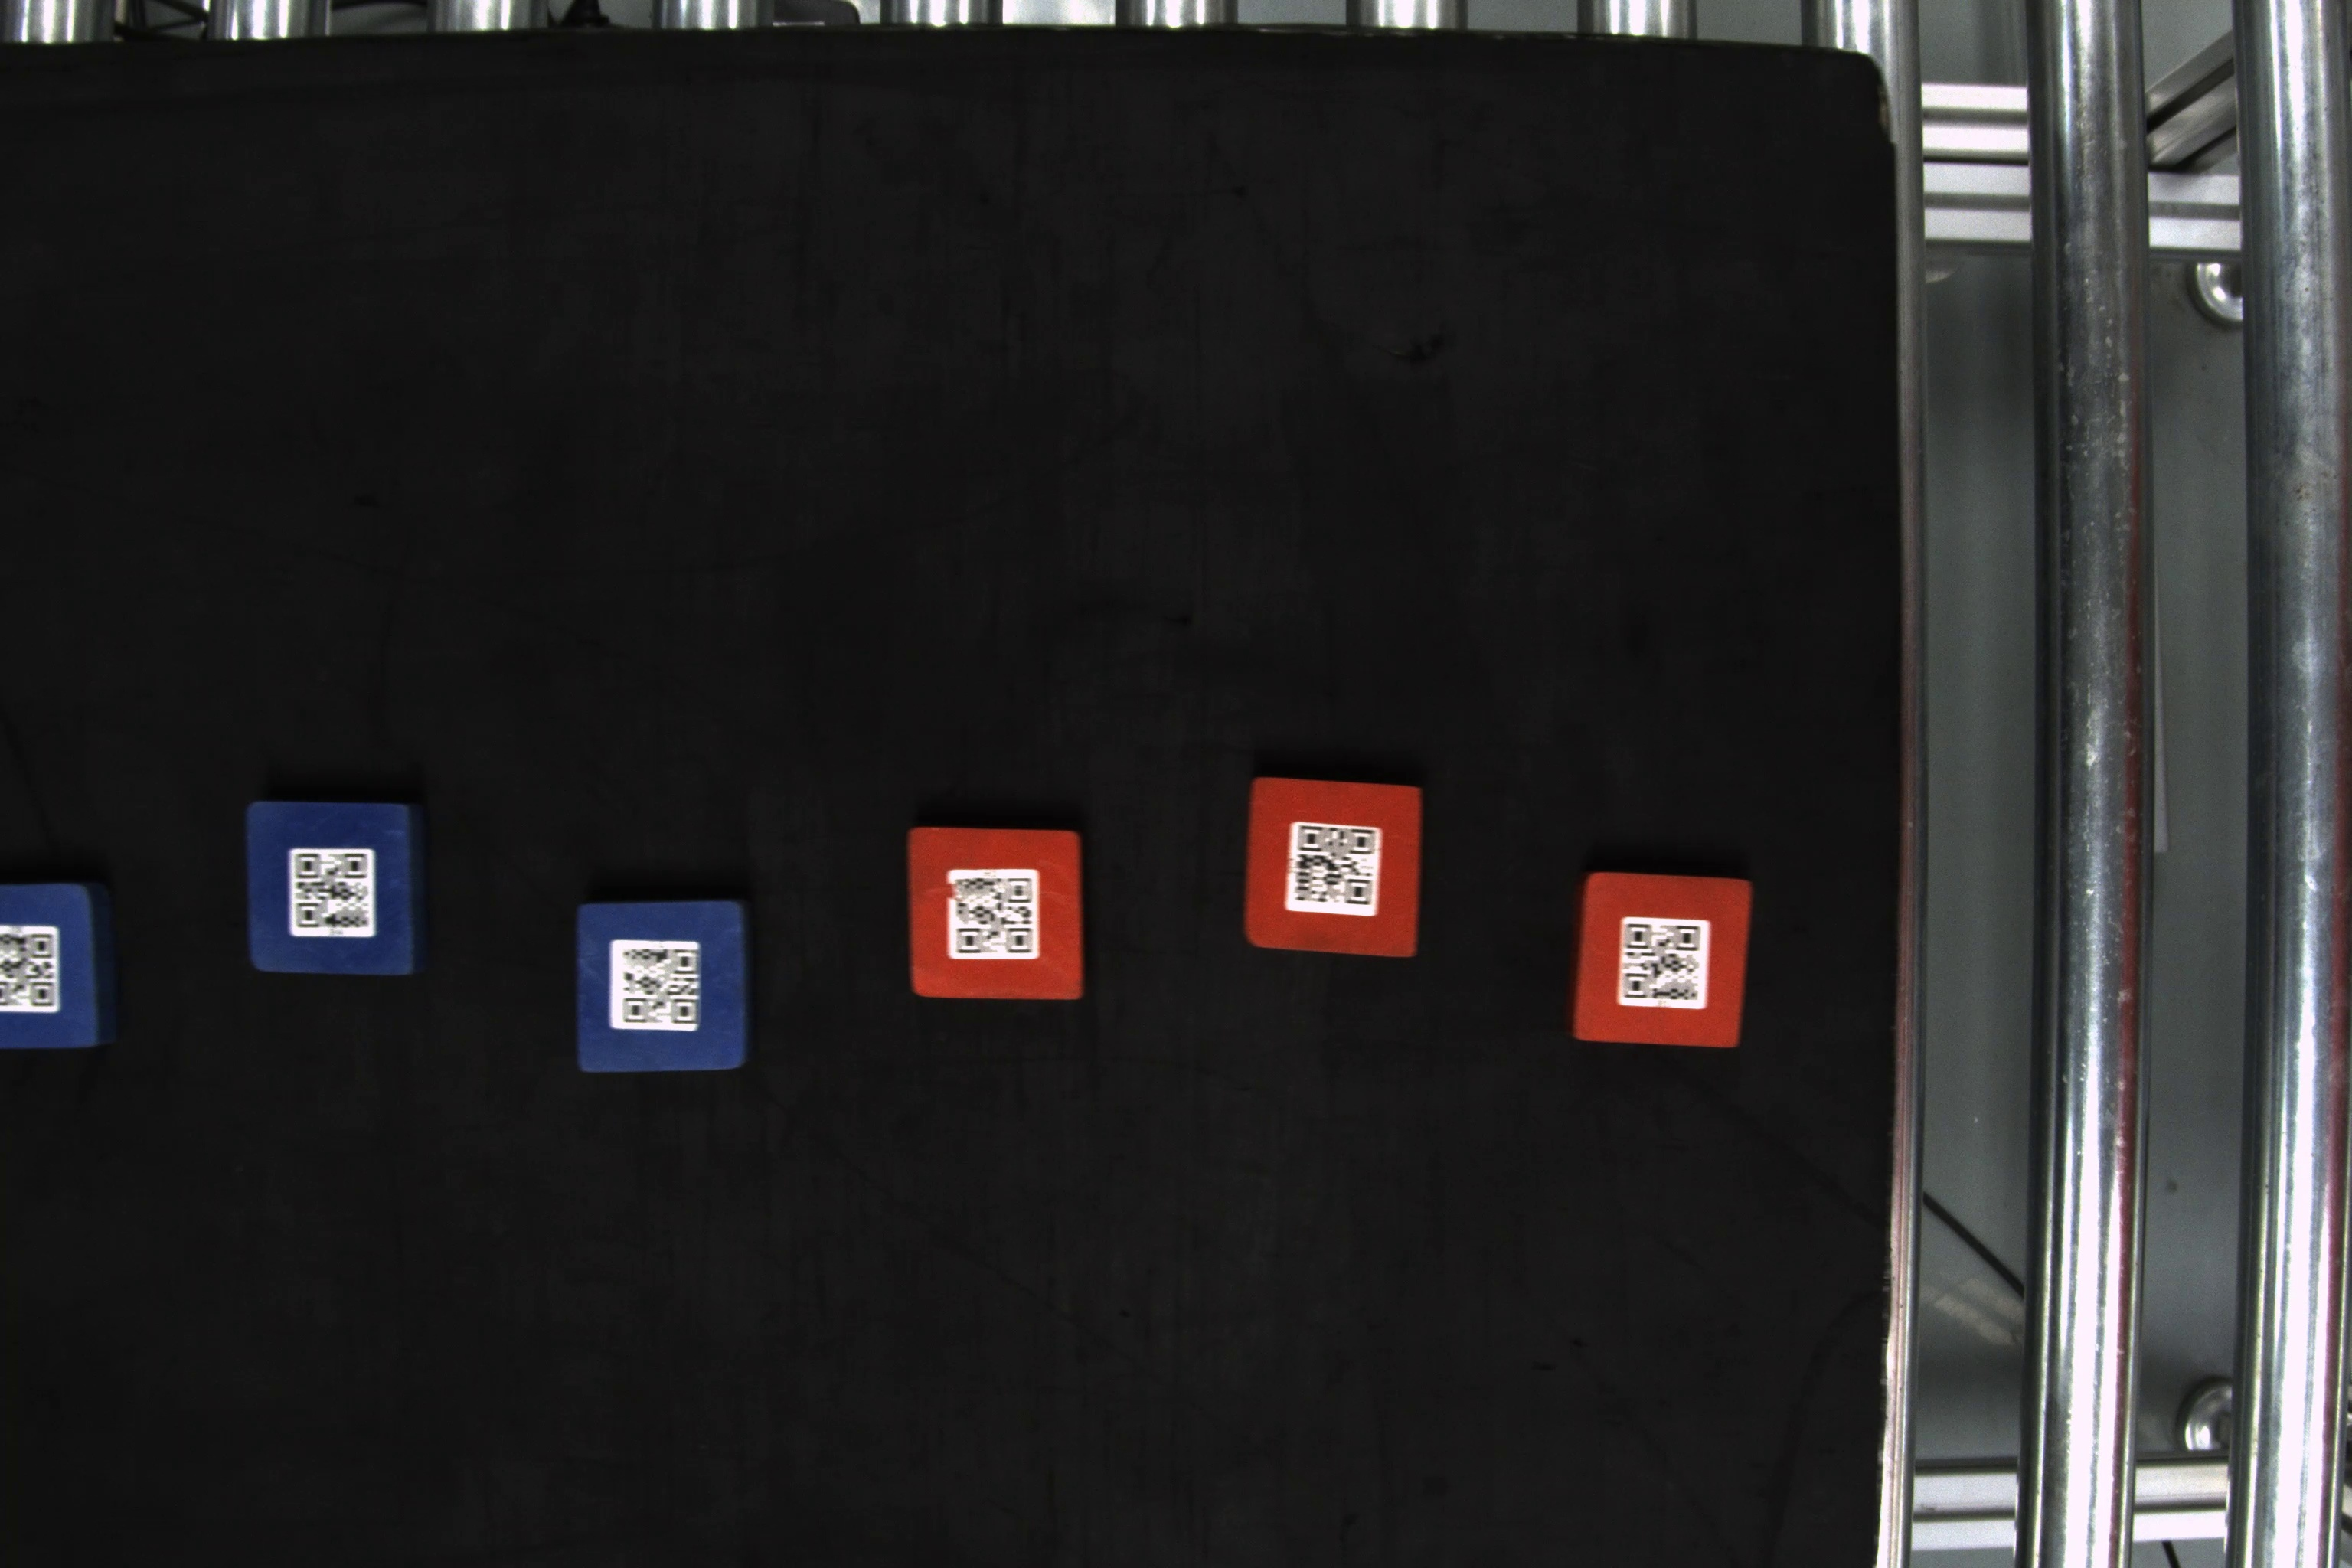wood: (240, 794, 441, 982), (896, 822, 1092, 1008), (1568, 864, 1759, 1050), (1242, 766, 1428, 955), (572, 901, 761, 1078), (0, 875, 126, 1057)
